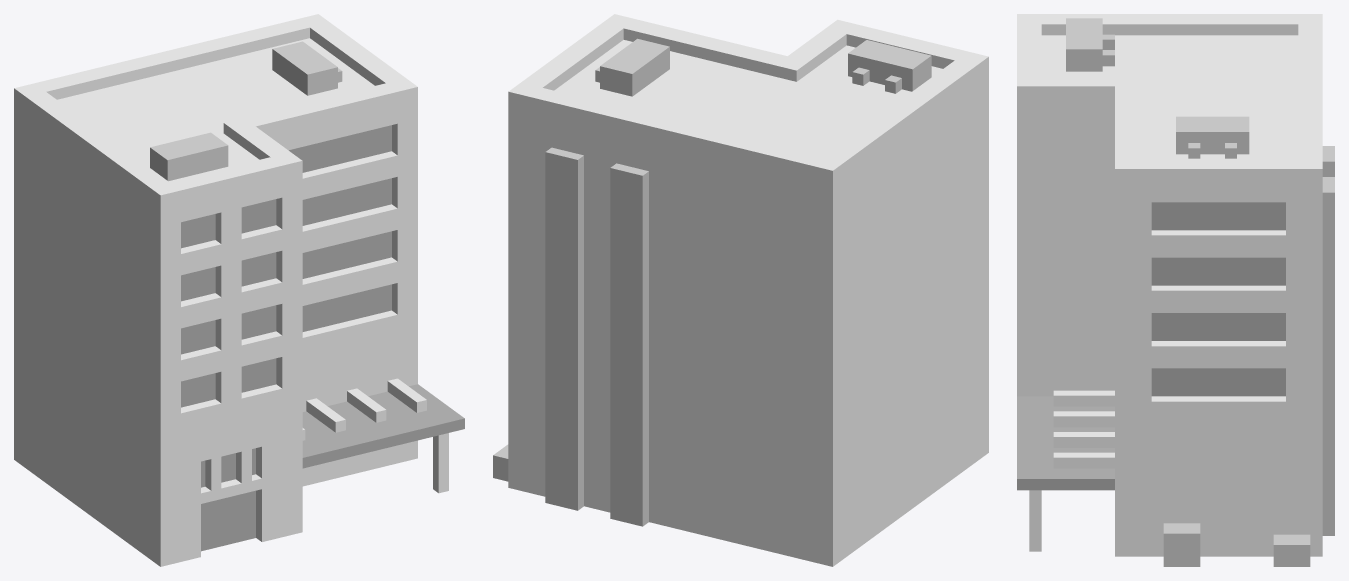
File: building_3.obj
The picture shows the model from 3 angles, left to right: view 1: azimuth 30°, elevation 25°; view 2: azimuth 150°, elevation 25°; view 3: azimuth 270°, elevation 25°; orthographic projection. The views are drawn at different scales.
Size of the model in its own units: 3.2 by 3.6 by 2.6.
Materials: 1 (1 with a texture image).
